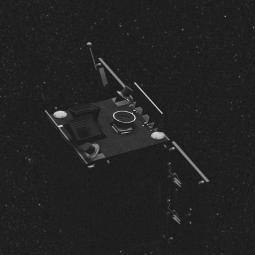proba_2: (45, 66, 200, 224)
